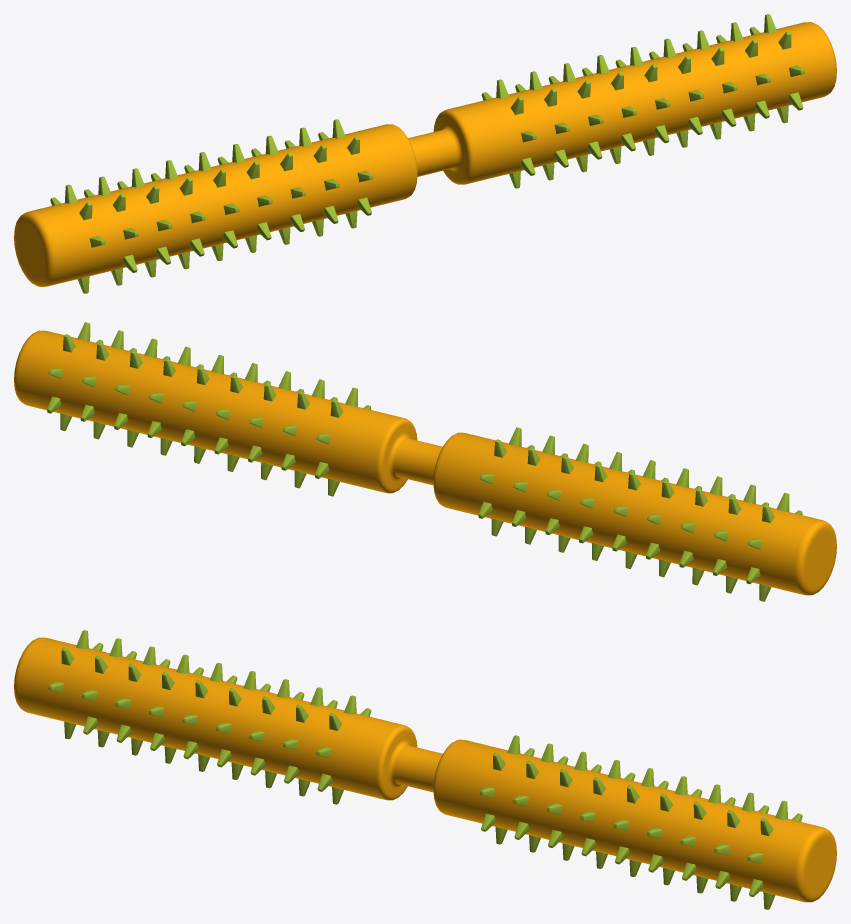
Rendered from DoubleSpike_MESH.fbx.
The picture shows the model from 3 angles, top to bottom: view 1: azimuth 30°, elevation 25°; view 2: azimuth 150°, elevation 25°; view 3: azimuth 330°, elevation 25°; orthographic projection.
Visible parts, largest first — view 1: doubleSpike_MESH; view 2: doubleSpike_MESH; view 3: doubleSpike_MESH.
Part boxes in pixels (bbox=[...]): doubleSpike_MESH: bbox=[14, 14, 836, 293]; doubleSpike_MESH: bbox=[14, 322, 836, 601]; doubleSpike_MESH: bbox=[14, 630, 836, 909].
Bounding box in the file's own units: 96.91 × 11.23 × 11.23.
